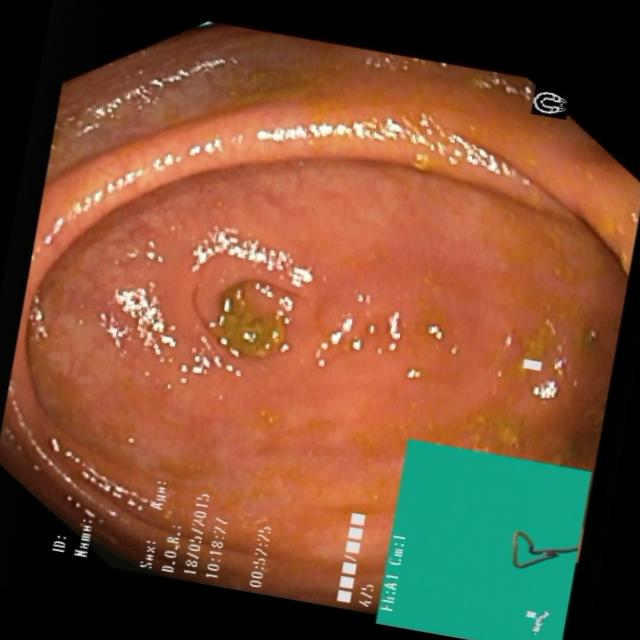normal-cecum: (178, 46, 576, 187), (427, 201, 637, 464), (197, 266, 302, 371)
